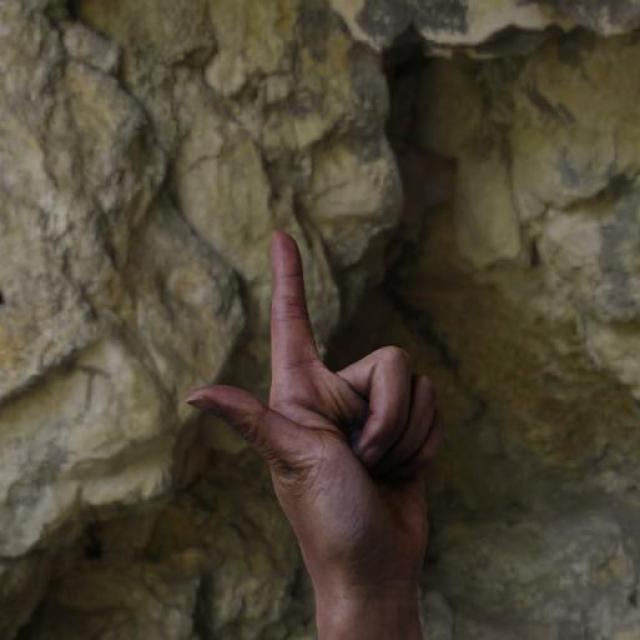L: (165, 200, 492, 590)
